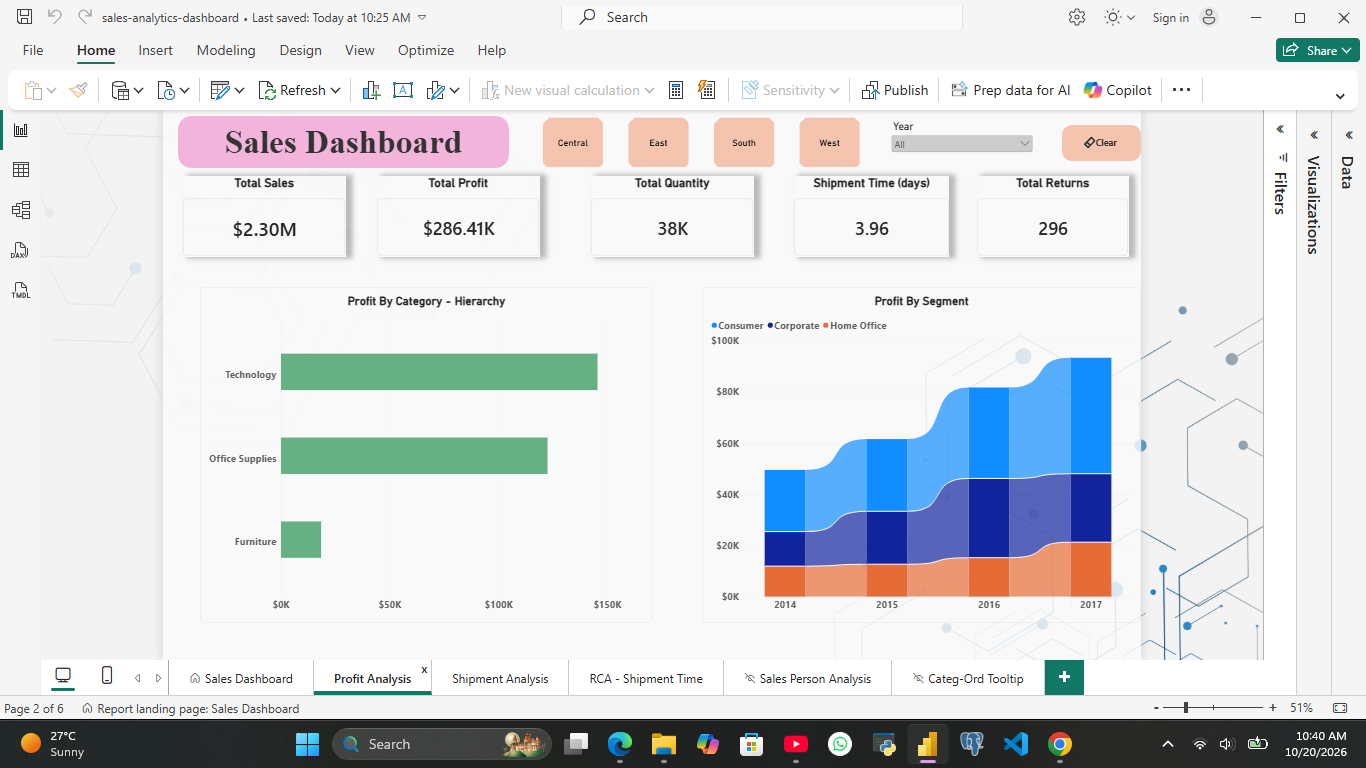

The page's visual inventory and layout, read from the dashboard file:
{"tool":"powerbi","page":{"name":"Profit Analysis","canvas":[1920,1080],"ordinal":1},"visuals":[{"type":"cardVisual","title":"Total Sales","fields":{"Data":["Sum(Orders.Sales)"]},"box":[39.7,130,319.6,158.7],"z":7000},{"type":"cardVisual","title":"Total Profit","fields":{"Data":["Sum(Orders.Profit)"]},"box":[421,130,319.6,158.7],"z":8000},{"type":"cardVisual","title":"Total Quantity","fields":{"Data":["Sum(Orders.Quantity)"]},"box":[839.8,130,319.6,158.7],"z":9000},{"type":"cardVisual","title":"Shipment Time (days)","fields":{"Data":["Avg(Orders.Shipment Time)"]},"box":[1238.7,130,304.2,158.7],"z":10000},{"type":"cardVisual","title":"Total Returns","fields":{"Data":["CountNonNull(Return_data.Order ID)"]},"box":[1598,130,297.6,158.7],"z":11000},{"type":"advancedSlicerVisual","fields":{"Values":["SalesPerson.Region"]},"box":[704.9,0,704.9,129.6],"z":12000},{"type":"slicer","title":"Year","fields":{"Values":["Orders.Order Date.Variation.Date Hierarchy.Year"]},"box":[1425.6,19.6,286.7,110],"z":13000},{"type":"shape","box":[29.5,11.8,650,102.1],"z":14000},{"type":"actionButton","box":[1765.3,29.5,155.1,70.7],"z":15000},{"type":"barChart","title":"Profit By Category - Hierarchy","fields":{"Category":["Orders.Category Hierarchy.Category","Orders.Category Hierarchy.Sub-Category","Orders.Category Hierarchy.Product Name"],"Y":["Sum(Orders.Profit)"]},"box":[72.3,346.8,887.7,658.6],"z":17001},{"type":"ribbonChart","title":"Profit By Segment","fields":{"Category":["Orders.Order Date.Variation.Date Hierarchy.Year","Orders.Order Date.Variation.Date Hierarchy.Quarter","Orders.Order Date.Variation.Date Hierarchy.Month","Orders.Order Date.Variation.Date Hierarchy.Day"],"Series":["Orders.Segment"],"Y":["Sum(Orders.Profit)"]},"box":[1059.1,346.8,860.9,658.6],"z":17002}]}

Visuals, with their boxes on the page's 1920x1080 design canvas (x1, y1, x2, y2). These are canvas units, not pixel positions in the 1366x768 screenshot, which may show the page scaled, cropped or inside an application window:
"Total Sales" cardVisual: detection(40, 130, 359, 289)
"Total Profit" cardVisual: detection(421, 130, 741, 289)
"Total Quantity" cardVisual: detection(840, 130, 1159, 289)
"Shipment Time (days)" cardVisual: detection(1239, 130, 1543, 289)
"Total Returns" cardVisual: detection(1598, 130, 1896, 289)
advancedSlicerVisual - SalesPerson.Region: detection(705, 0, 1410, 130)
"Year" slicer: detection(1426, 20, 1712, 130)
shape: detection(30, 12, 680, 114)
actionButton: detection(1765, 30, 1920, 100)
"Profit By Category - Hierarchy" barChart: detection(72, 347, 960, 1005)
"Profit By Segment" ribbonChart: detection(1059, 347, 1920, 1005)
